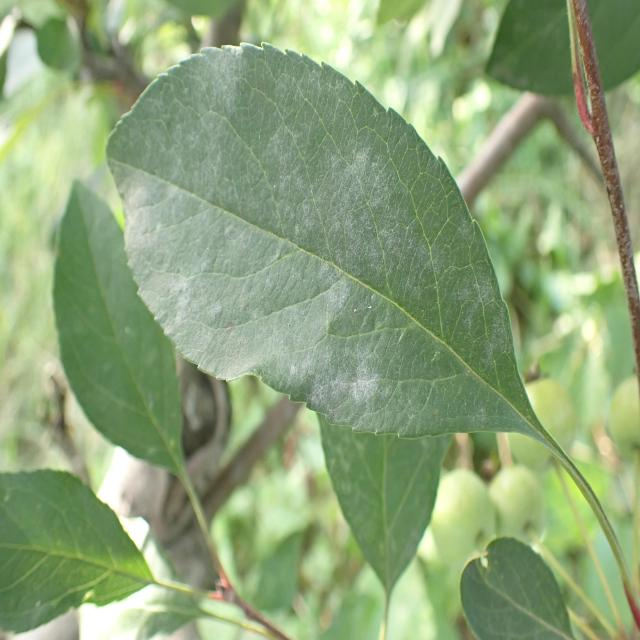Powdery_mildew: (120, 29, 524, 448)
